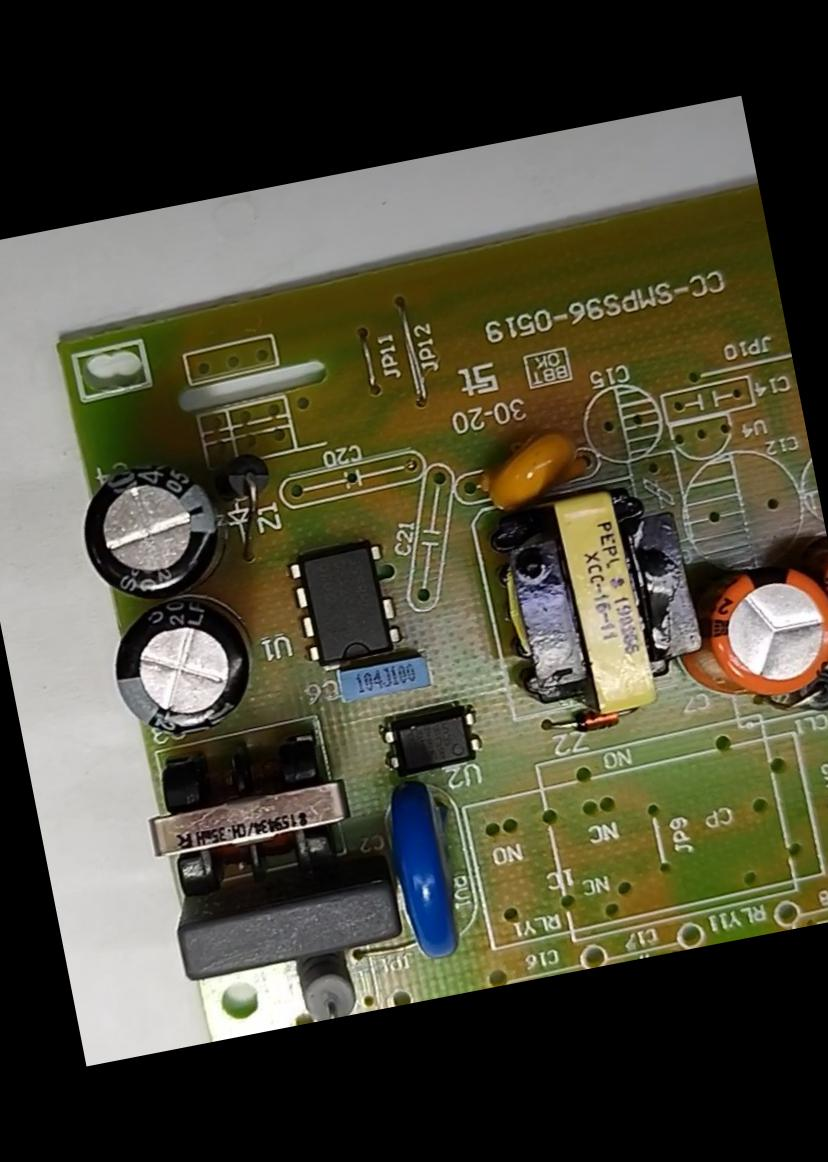Cap1: (660, 535, 827, 723)
Cap2: (801, 533, 827, 649)
Cap3: (98, 583, 270, 750)
Cap4: (61, 440, 252, 614)
MOSFET: (282, 529, 412, 674)
Mov: (368, 760, 486, 986)
Resistor: (287, 944, 363, 1024)
Transformer: (472, 471, 714, 740), (126, 704, 366, 921)
